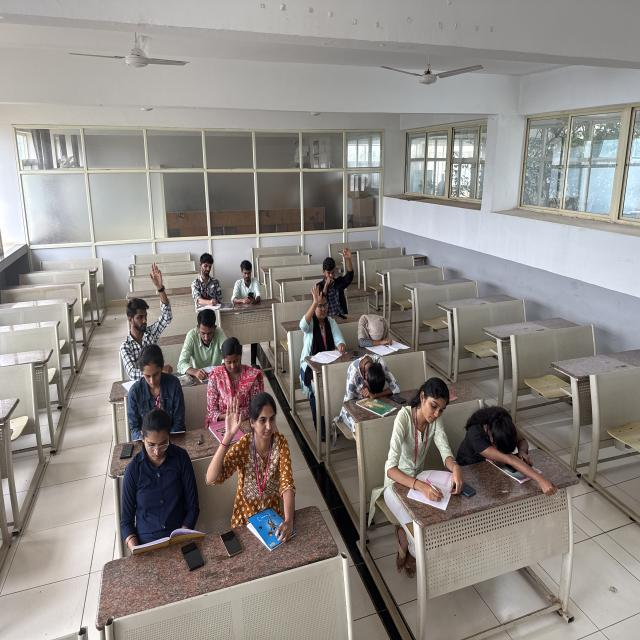Hand Rising: (206, 388, 306, 550), (115, 259, 175, 363), (296, 279, 341, 372), (321, 246, 354, 313)
Reading: (116, 404, 208, 552), (173, 306, 227, 391)
Sleeping: (458, 393, 541, 489), (339, 348, 407, 426), (346, 305, 403, 360)
Using Phone: (230, 258, 263, 307)
Writing: (386, 375, 458, 509), (189, 250, 225, 309)
